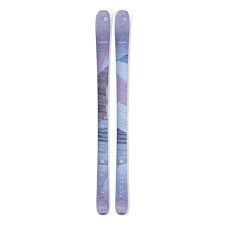skis: (93, 9, 132, 214)
